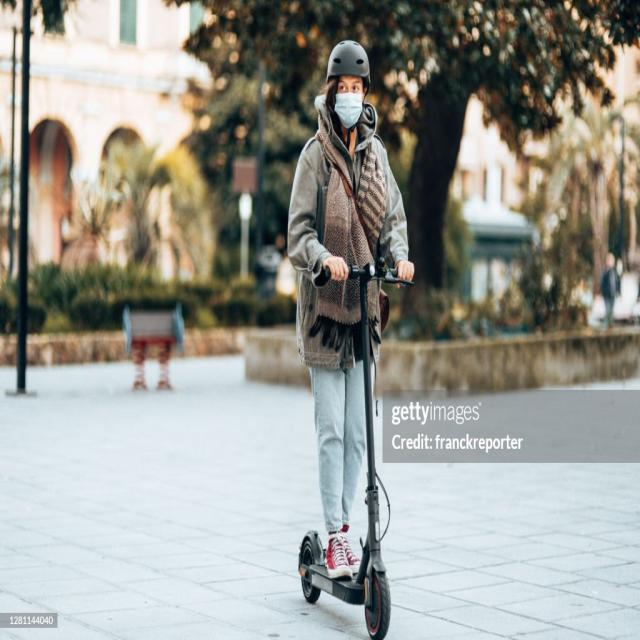helmet: (286, 27, 419, 636)
